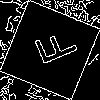F: (25, 25, 80, 71)
